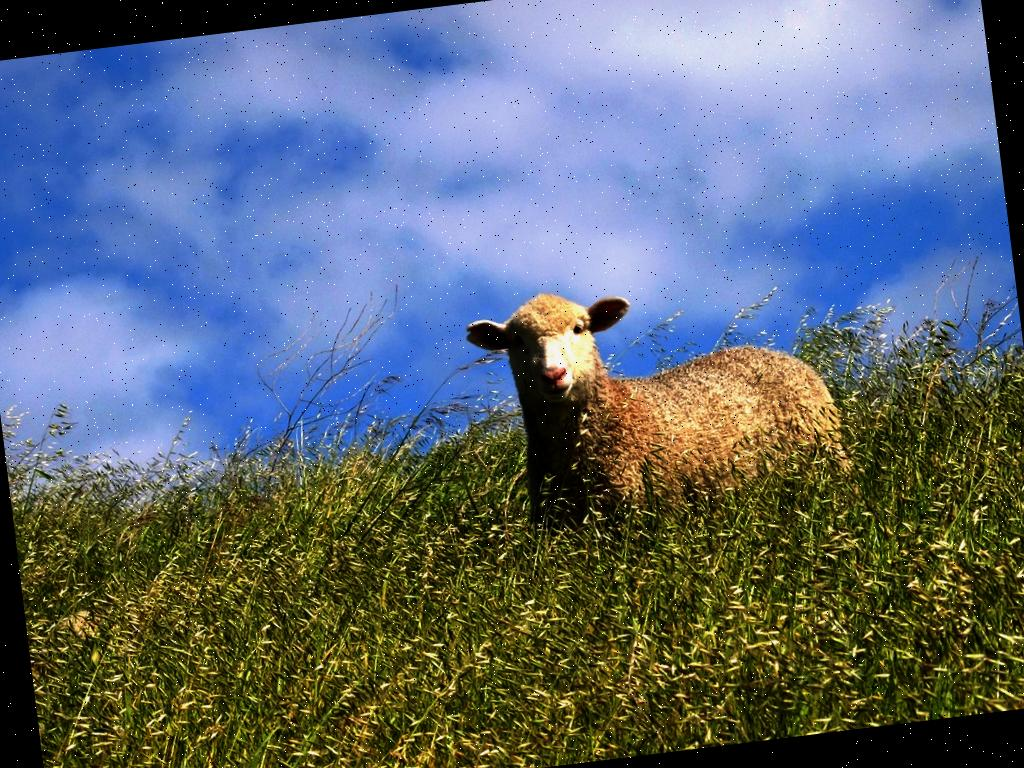Sheep: (449, 255, 863, 558)
